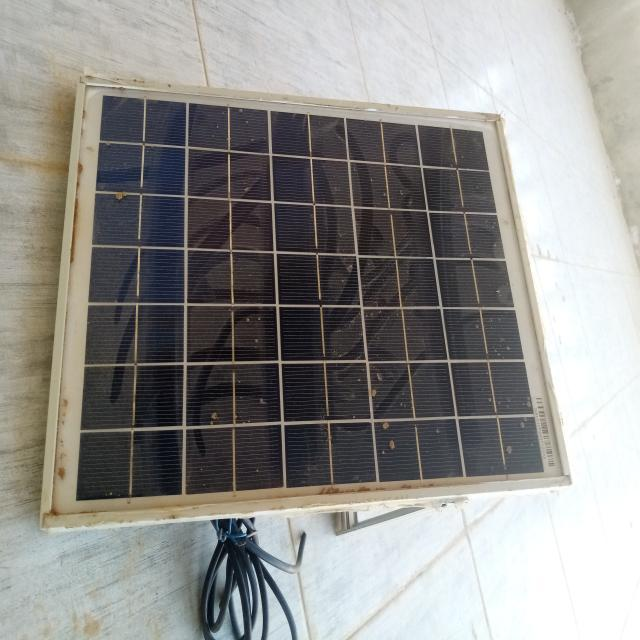faulty: (43, 79, 569, 523)
